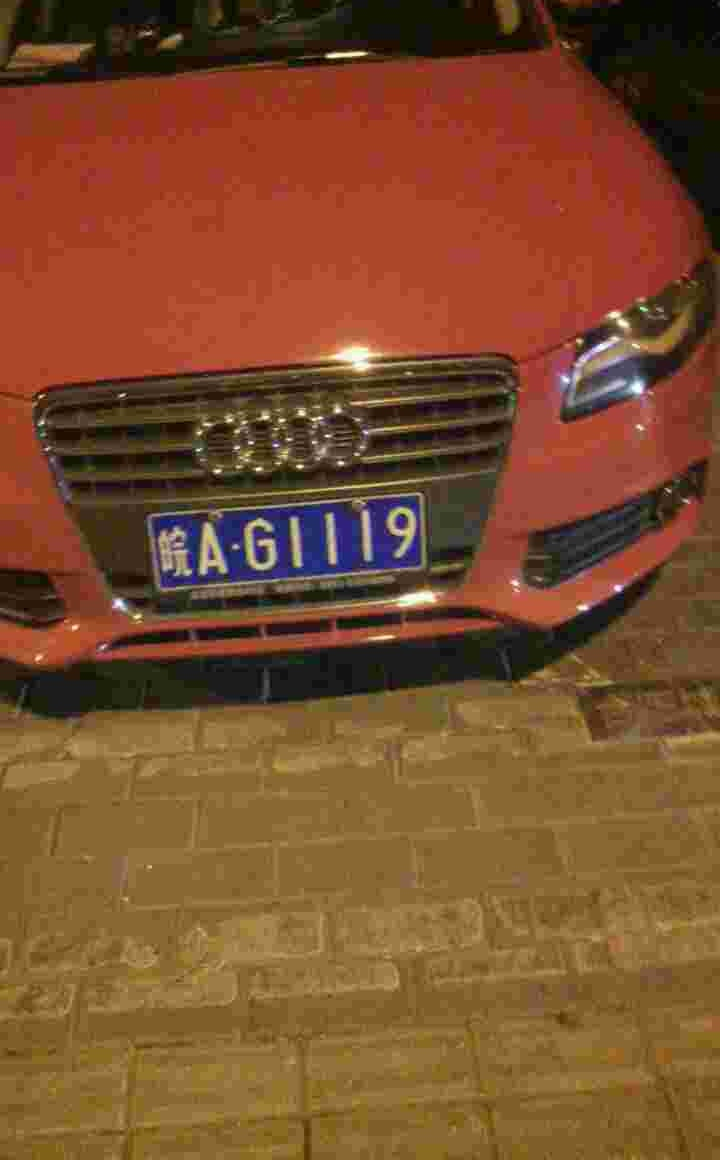license_plate: (136, 500, 425, 590)
